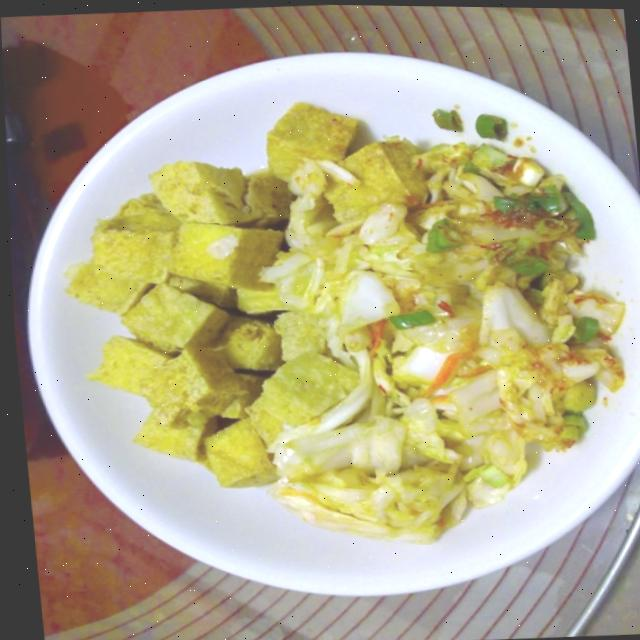豆腐料理: (12, 25, 640, 621)
